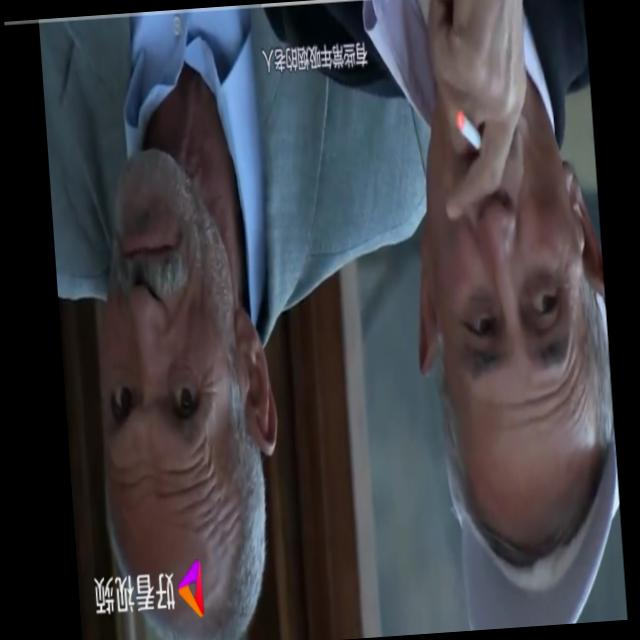smoke: (452, 108, 487, 159)
